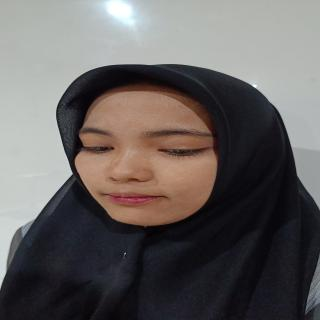Sedih: (60, 81, 248, 230)
